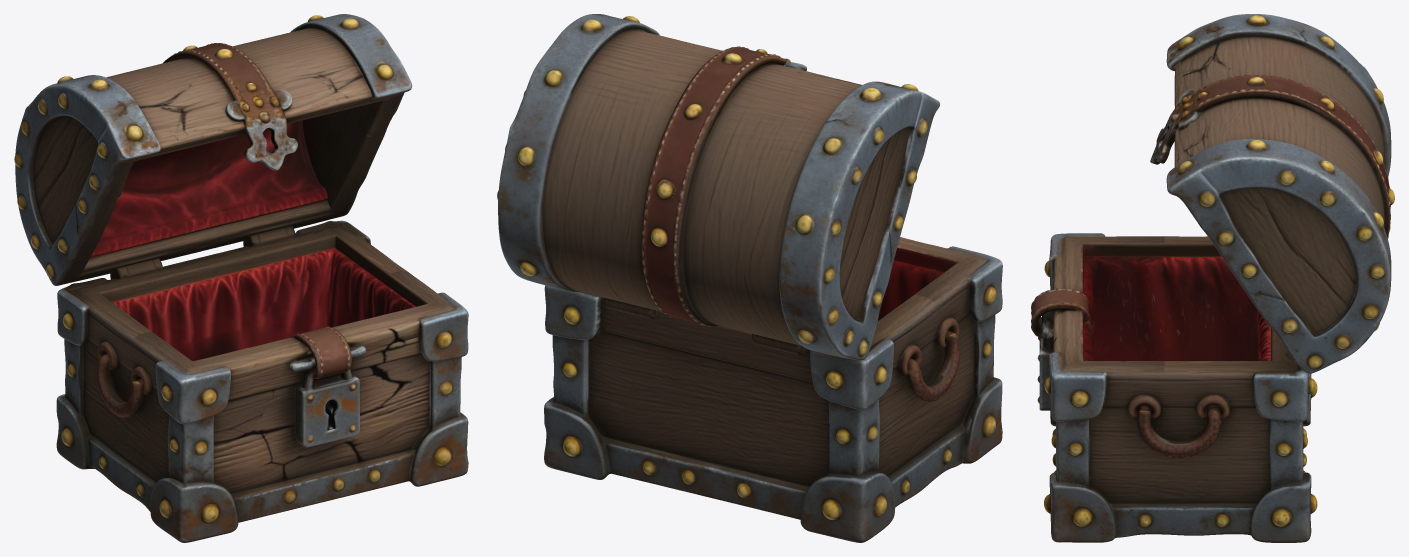
File: TC002_Hunyuan 3D Pro.glb
3 views of the same model, side by side, from view 1: azimuth 30°, elevation 25°; view 2: azimuth 150°, elevation 25°; view 3: azimuth 270°, elevation 25° (orthographic). The views are drawn at different scales.
Visible parts, largest first — view 1: node_0; view 2: node_0; view 3: node_0.
Part boxes in pixels (box(x1,y1,x2,y2)): node_0: box(14, 14, 468, 542); node_0: box(497, 14, 1002, 542); node_0: box(1031, 14, 1394, 542).
Size of the model in its own units: 0.6749 by 0.8288 by 0.6934.
1 material, 1 textured.
